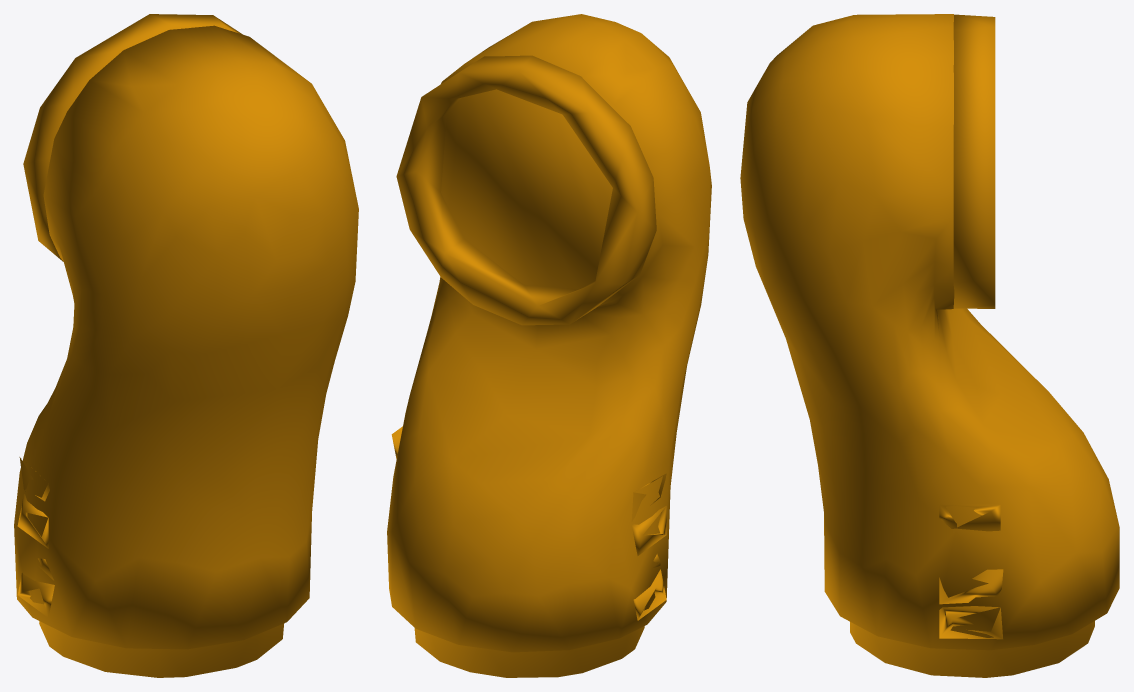
The picture shows the model from 3 angles, left to right: view 1: azimuth 30°, elevation 25°; view 2: azimuth 150°, elevation 25°; view 3: azimuth 270°, elevation 25°; orthographic projection. The views are drawn at different scales.
Parts seen in each view (by area): view 1: kuka_3; view 2: kuka_3; view 3: kuka_3.
Part boxes in pixels (x1=…): kuka_3: x1=14, y1=14, x2=358, y2=677; kuka_3: x1=387, y1=14, x2=711, y2=677; kuka_3: x1=740, y1=14, x2=1119, y2=677.
Bounding box in the file's own units: 0.122 × 0.1542 × 0.2685.
